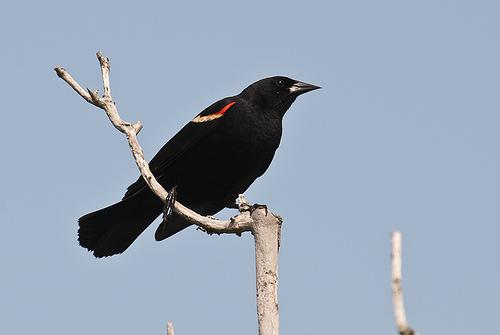010.Red_winged_Blackbird: (77, 71, 323, 265)
